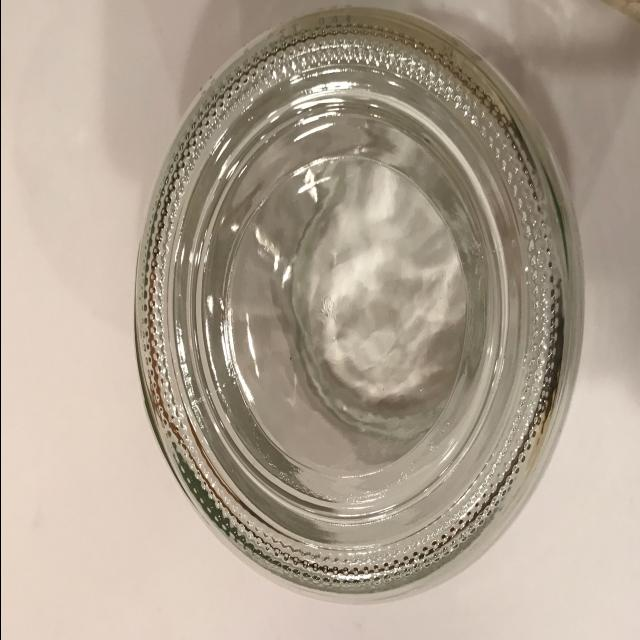glass: (127, 15, 587, 602)
